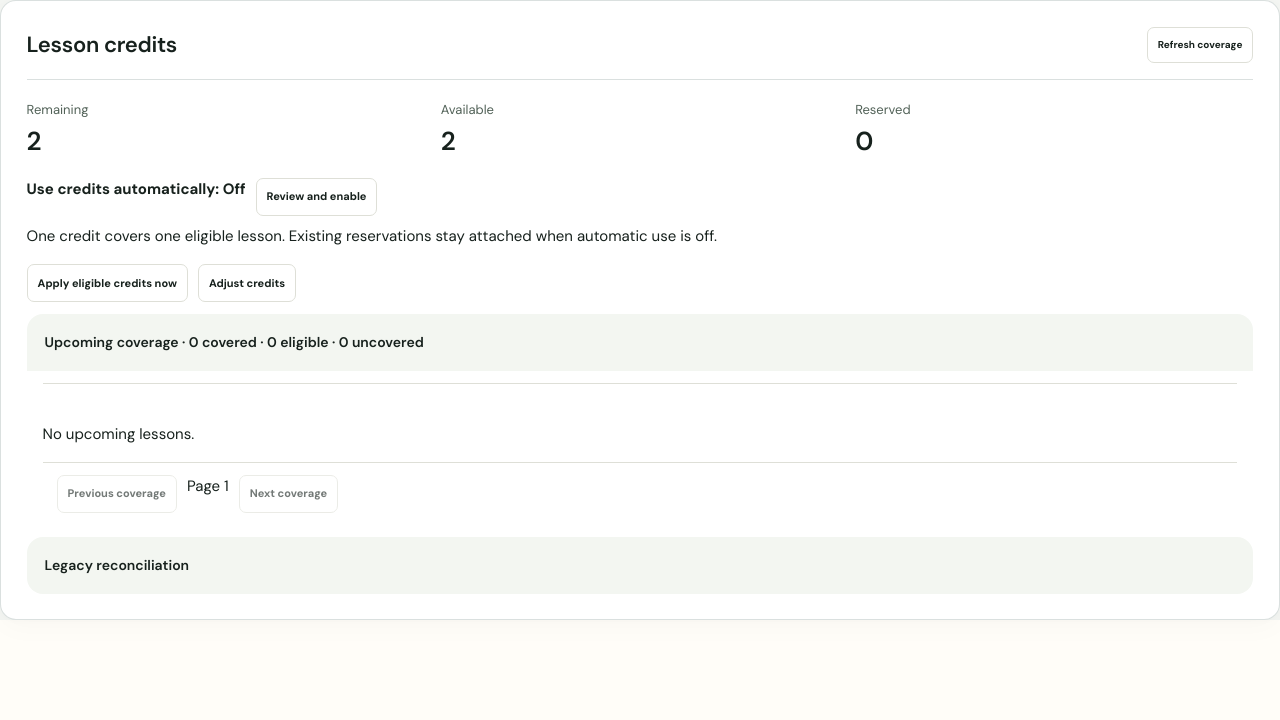
retains the original key and version after a lost response even when refreshed totals advance
Click the button "Apply eligible credits now": (107, 283) 27,264 -> 188,302
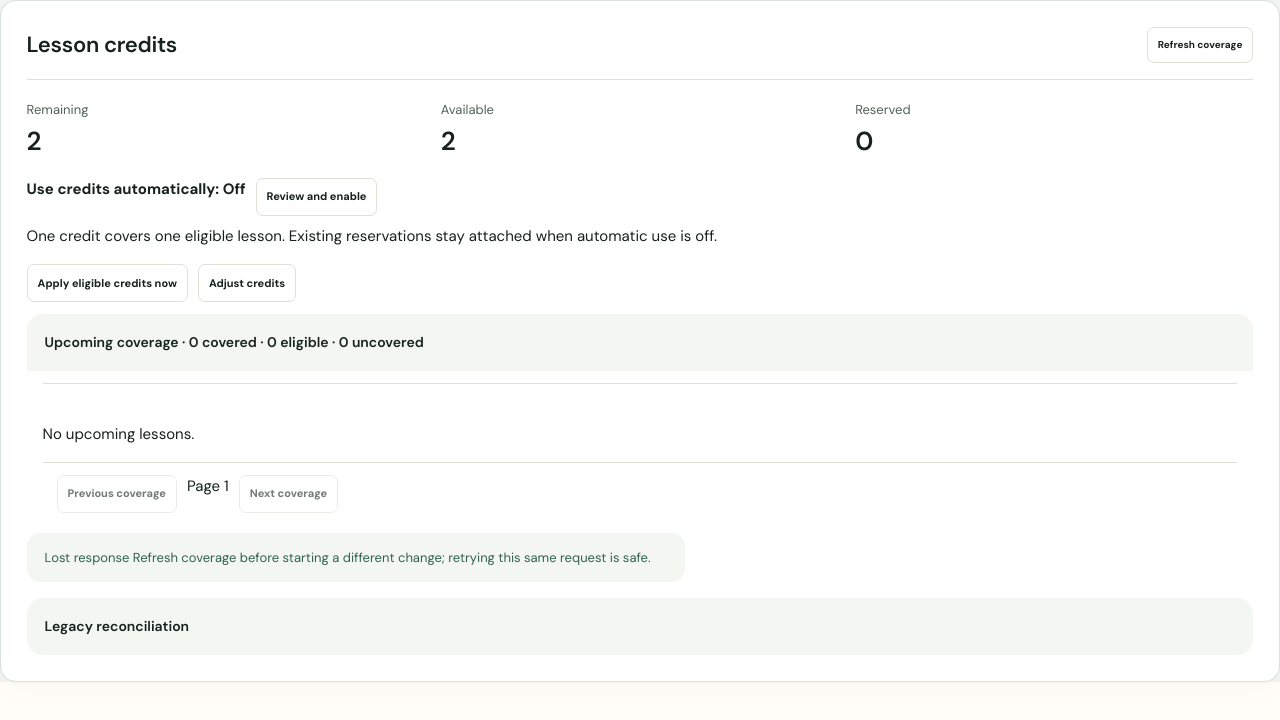
Check: the text "Lost response" is shown, box 45,549 -> 651,566
Click the button "Apply eligible credits now": (107, 283) 27,264 -> 188,302
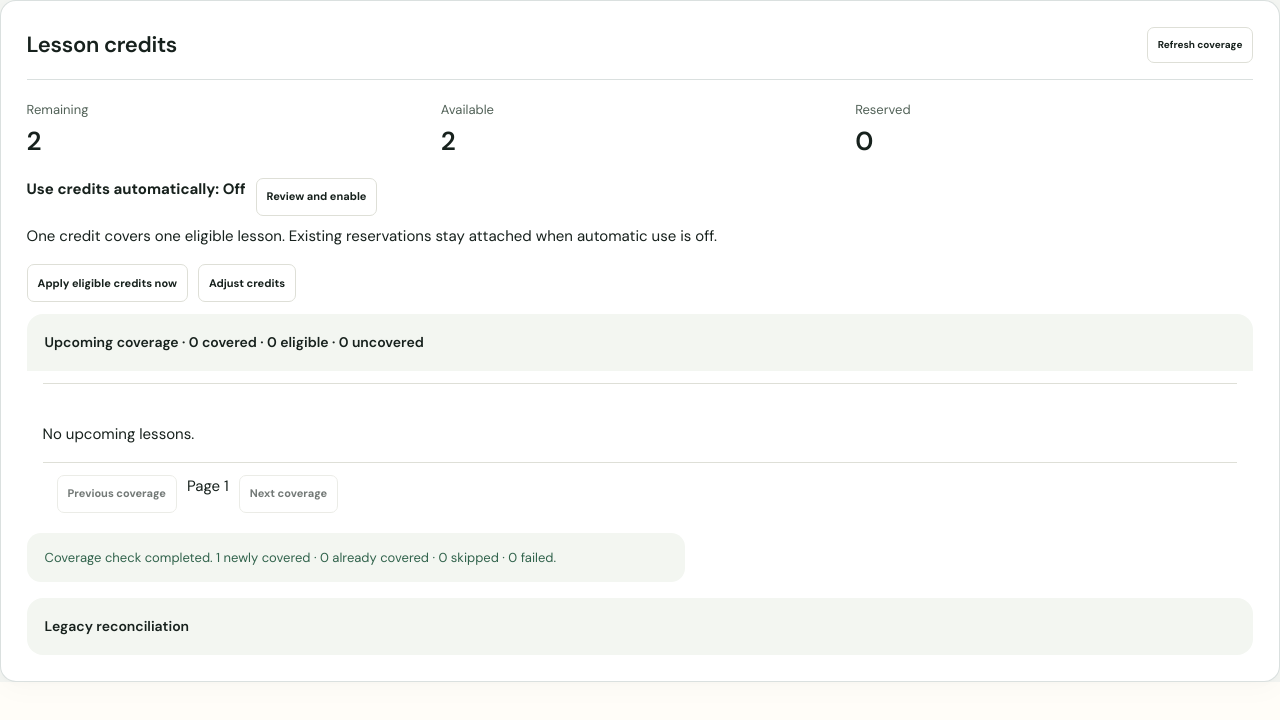
Check: the text "1 newly covered" is shown, box 45,549 -> 556,566
